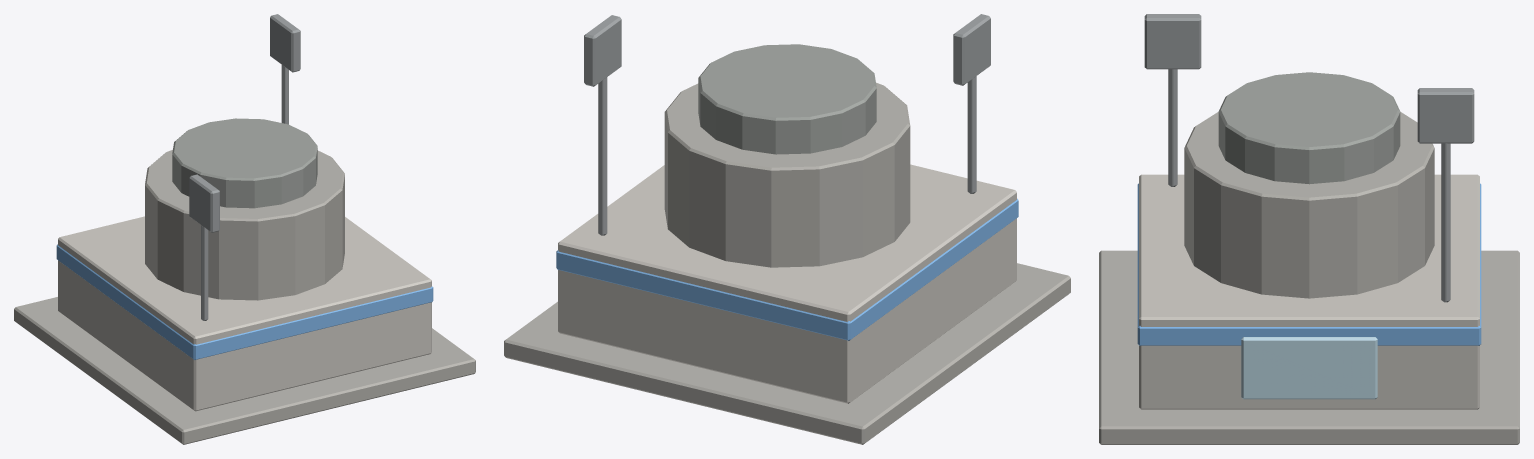
File: strategy_center.glb
3 views of the same model, side by side, from view 1: azimuth 30°, elevation 25°; view 2: azimuth 150°, elevation 25°; view 3: azimuth 270°, elevation 25° (orthographic). The views are drawn at different scales.
Visible parts, largest first — view 1: strategy_center; view 2: strategy_center; view 3: strategy_center.
Part boxes in pixels (box(x1,y1,x2,y2)): strategy_center: box(14, 14, 475, 444); strategy_center: box(504, 14, 1070, 444); strategy_center: box(1099, 14, 1519, 444).
Bounding box in the file's own units: 3.7 × 3.15 × 3.7.
